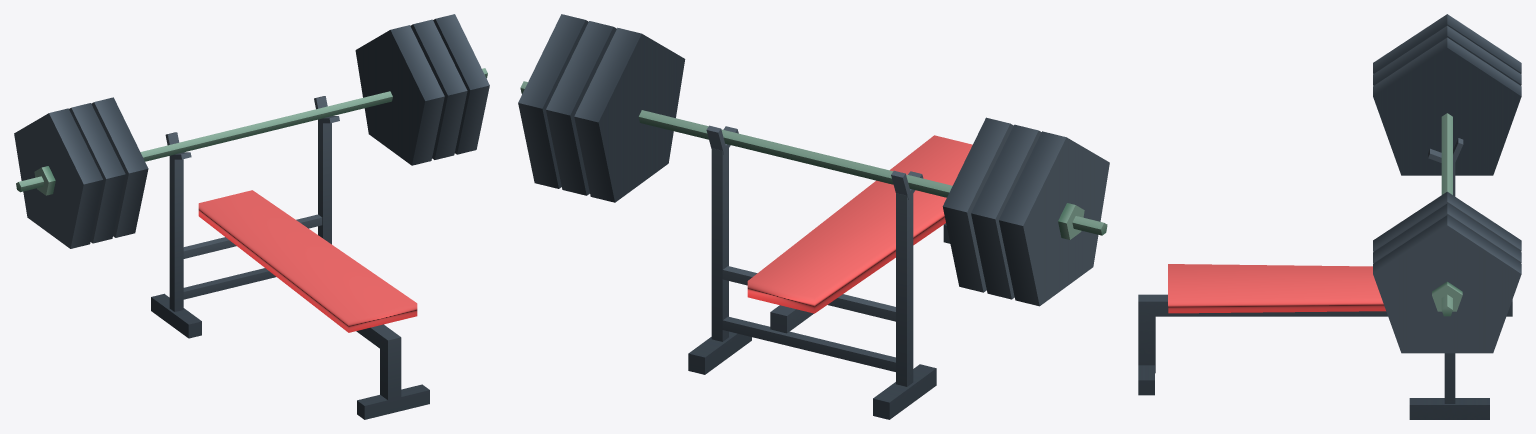
The model's file is Prop_BenchPress.fbx.
3 views of the same model, side by side, from view 1: azimuth 30°, elevation 25°; view 2: azimuth 150°, elevation 25°; view 3: azimuth 270°, elevation 25° (orthographic). The views are drawn at different scales.
Parts seen in each view (by area): view 1: Prop_BenchPress; view 2: Prop_BenchPress; view 3: Prop_BenchPress.
Boxes of the visible parts, left/top/right/bottom form: Prop_BenchPress: left=14, top=14, right=489, bottom=419; Prop_BenchPress: left=518, top=14, right=1109, bottom=419; Prop_BenchPress: left=1138, top=14, right=1521, bottom=419.
Bounding box in the file's own units: 621 × 308 × 415.
